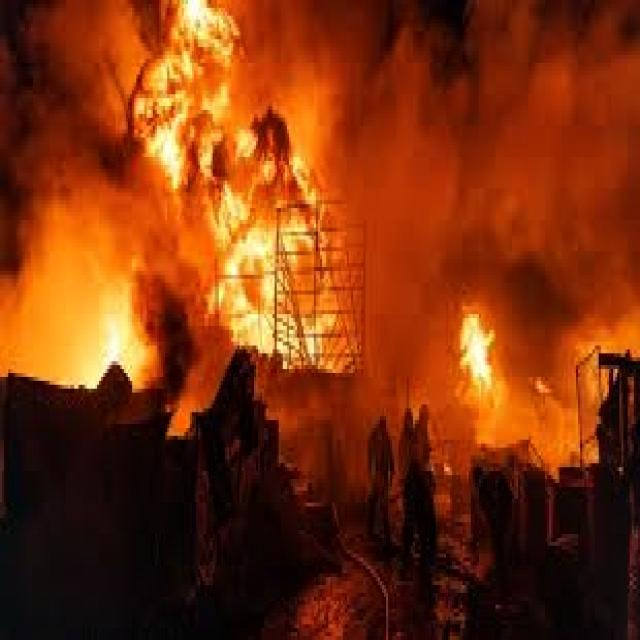fire: (126, 0, 342, 384), (28, 212, 160, 392), (434, 260, 526, 418)
